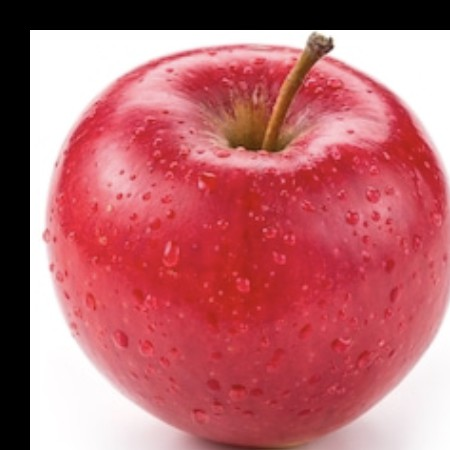fresh_apple: (52, 43, 450, 449)
